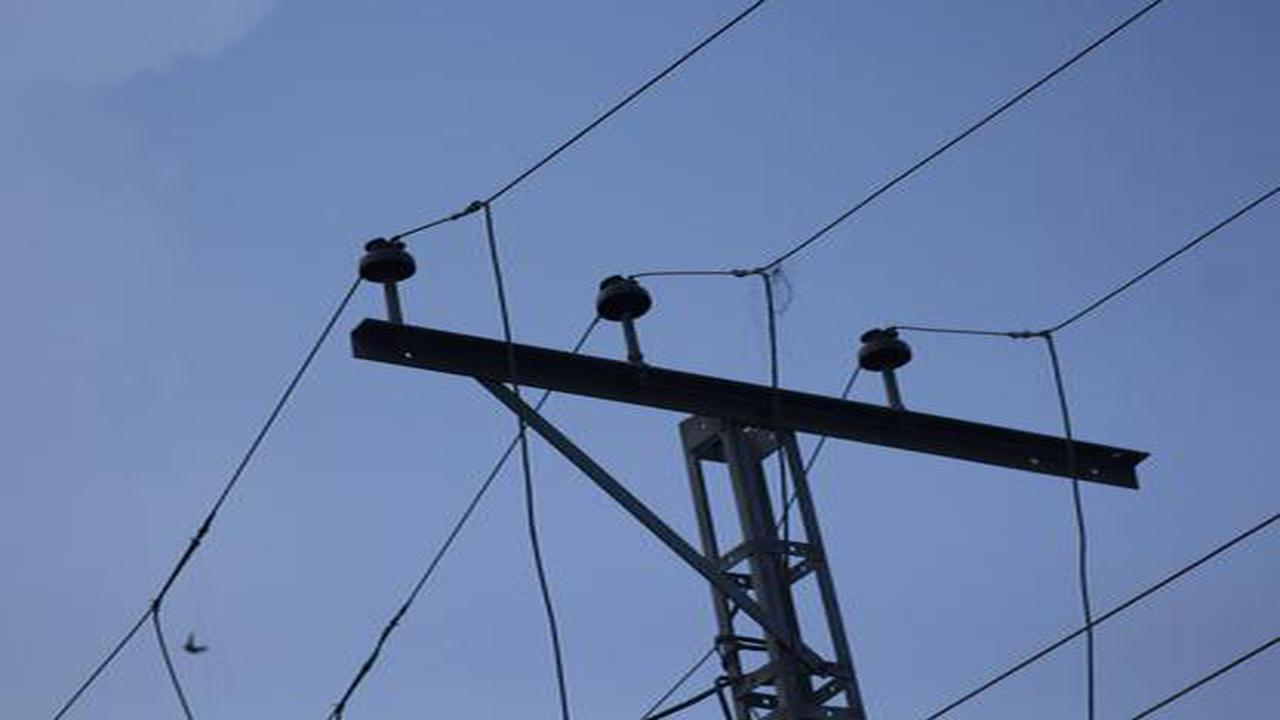insulator_pin: (348, 233, 426, 290), (591, 268, 660, 328), (854, 326, 923, 375)
